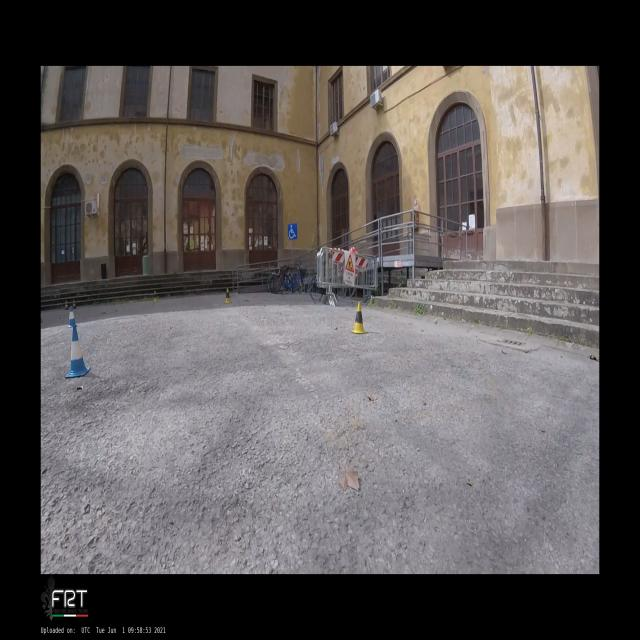blue_cone: (66, 325, 91, 377), (68, 306, 77, 328), (41, 314, 43, 323)
large_orange_cone: (65, 300, 69, 310), (73, 299, 76, 309)
yellow_cone: (350, 300, 367, 334), (224, 289, 232, 303), (154, 290, 158, 302)
